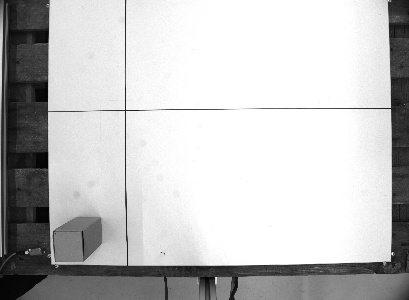b2: (51, 214, 104, 264)
